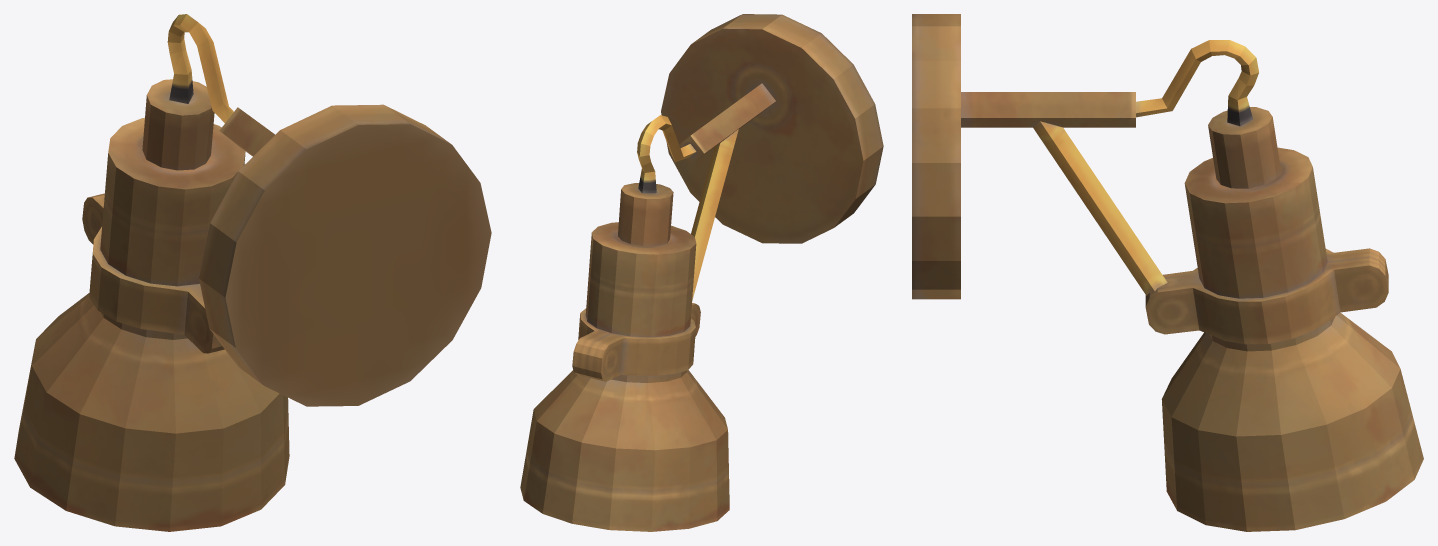
Rendered from P_WallLamp_001_S1_M02.obj.
The picture shows the model from 3 angles, left to right: view 1: azimuth 30°, elevation 25°; view 2: azimuth 150°, elevation 25°; view 3: azimuth 270°, elevation 25°; orthographic projection. The views are drawn at different scales.
Size of the model in its own units: 0.2733 by 0.4927 by 0.4913.
Materials: 1 (1 with a texture image).
